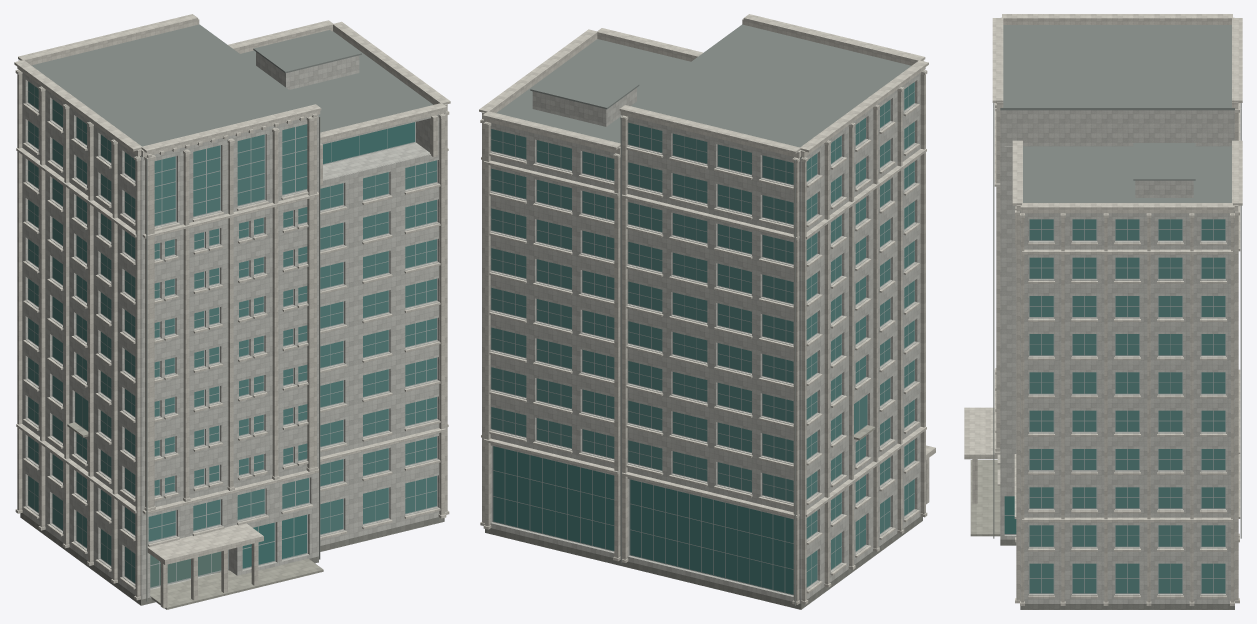
The picture shows the model from 3 angles, left to right: view 1: azimuth 30°, elevation 25°; view 2: azimuth 150°, elevation 25°; view 3: azimuth 270°, elevation 25°; orthographic projection. The views are drawn at different scales.
Visible parts, largest first — view 1: vision__stone, vision__glass, vision__pier, vision__cornice, vision__roof, vision__frame, vision__coreglass, vision__threshold-main-portico, vision__metal, vision__baseStone, vision__entryglass; view 2: vision__stone, vision__glass, vision__cornice, vision__pier, vision__roof, vision__coreglass, vision__frame, vision__baseStone, vision__metal; view 3: vision__stone, vision__roof, vision__glass, vision__cornice, vision__pier, vision__frame, vision__threshold-main-portico, vision__metal, vision__baseStone, vision__coreglass.
Boxes of the visible parts, <box> form: vision__stone: <box>22,52,444,599</box>; vision__glass: <box>28,81,436,582</box>; vision__pier: <box>17,69,447,608</box>; vision__cornice: <box>14,14,450,600</box>; vision__roof: <box>31,24,433,157</box>; vision__frame: <box>28,81,437,588</box>; vision__coreglass: <box>242,122,414,568</box>; vision__threshold-main-portico: <box>150,558,323,609</box>; vision__metal: <box>146,116,320,601</box>; vision__baseStone: <box>20,513,444,605</box>; vision__entryglass: <box>150,551,221,587</box>; vision__stone: <box>485,73,920,603</box>; vision__glass: <box>491,82,914,587</box>; vision__cornice: <box>479,14,935,604</box>; vision__pier: <box>482,70,929,601</box>; vision__roof: <box>496,24,911,158</box>; vision__coreglass: <box>493,446,793,594</box>; vision__frame: <box>490,82,914,595</box>; vision__baseStone: <box>485,516,922,609</box>; vision__metal: <box>620,117,795,605</box>; vision__stone: <box>1000,110,1234,603</box>; vision__roof: <box>1000,25,1234,212</box>; vision__glass: <box>1029,219,1225,593</box>; vision__cornice: <box>964,14,1242,605</box>; vision__pier: <box>972,103,1238,602</box>; vision__frame: <box>1004,219,1225,593</box>; vision__threshold-main-portico: <box>970,460,1000,536</box>; vision__metal: <box>993,103,1241,538</box>; vision__baseStone: <box>1000,539,1234,609</box>; vision__coreglass: <box>1004,496,1016,533</box>.
Size of the model in its own units: 31.3 by 41.77 by 23.7.
Materials: 12 (6 with a texture image).
